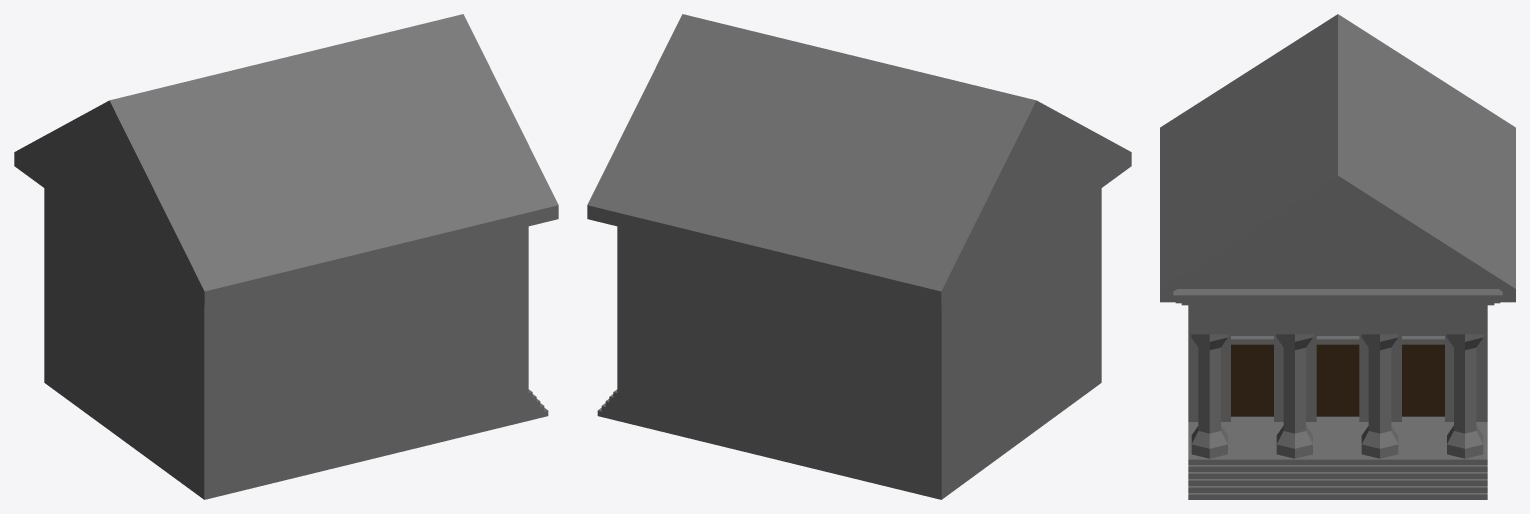
File: building_8.fbx
The picture shows the model from 3 angles, left to right: view 1: azimuth 30°, elevation 25°; view 2: azimuth 150°, elevation 25°; view 3: azimuth 270°, elevation 25°; orthographic projection. The views are drawn at different scales.
Parts seen in each view (by area): view 1: Building7; view 2: Building7; view 3: Building7.
Boxes of the visible parts, x1,y1,x2,y2 form: Building7: (14,14,558,499); Building7: (587,14,1131,499); Building7: (1160,14,1515,499).
Bounding box in the file's own units: 1258 × 1154 × 1156.
